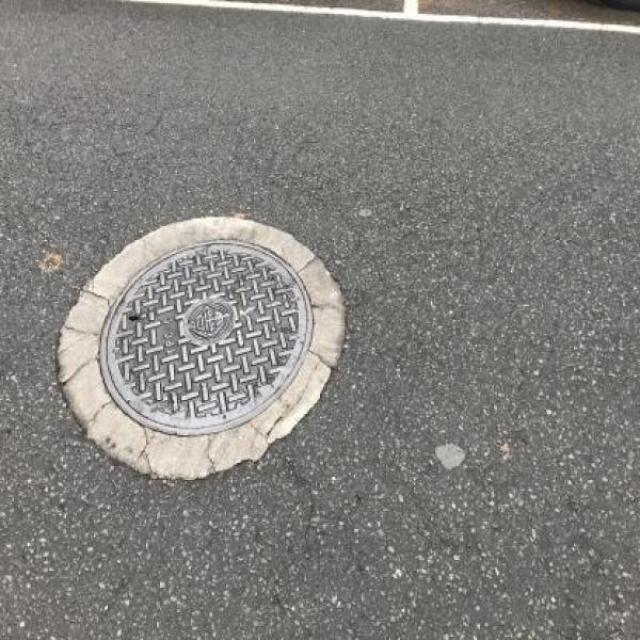Good: (95, 238, 319, 442)
